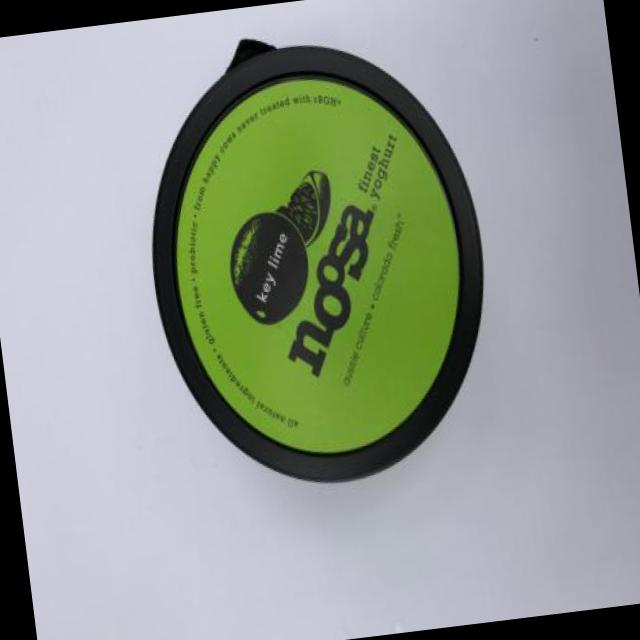plastic: (122, 26, 496, 476)
